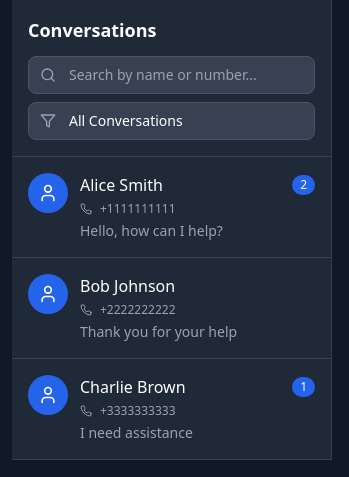
Test: ConversationList › Search Functionality › should show no matching message when search has no results
This screenshot has width=349, height=477.
Type "NonExistent" into the field with placeholder "Search by name or number...".
click(172, 75); type("NonExistent")  # box [28,56,315,94]
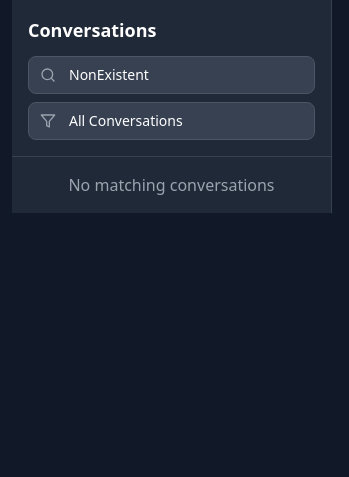
Result: the text "No matching conversations" is shown at [68,174,275,196]
